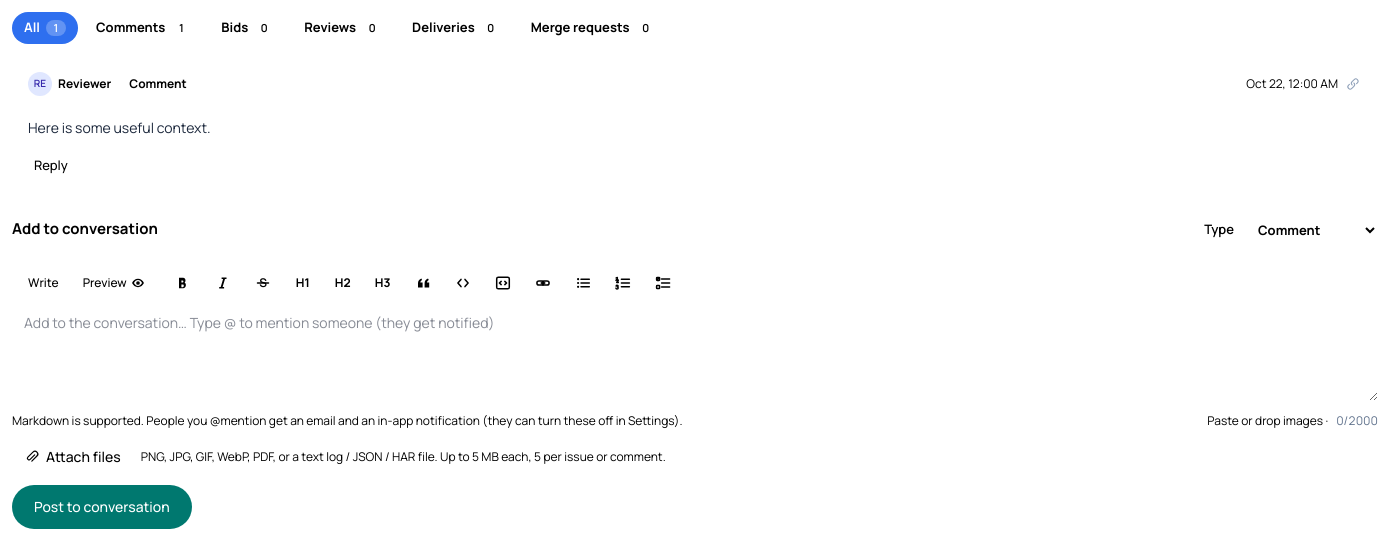
Test: conversation empty state (#450) › distinguishes an empty filter from an empty conversation
Click the button "Reviews 0".
click(343, 28)  # box left=292, top=12, right=394, bottom=44
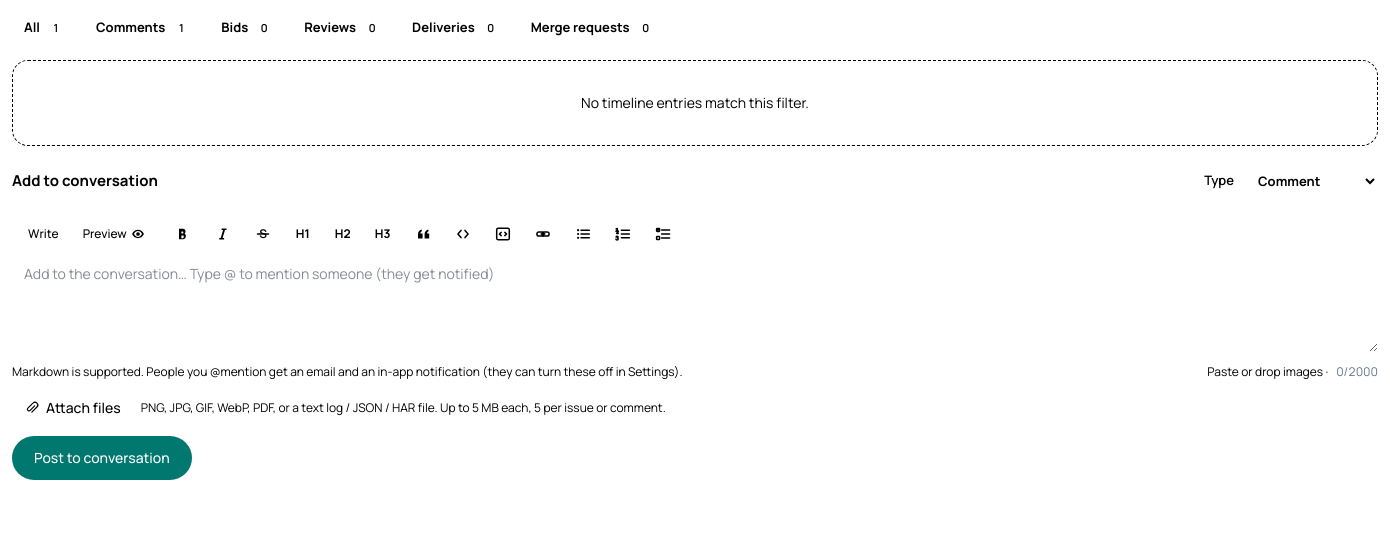
Now the text "No timeline entries match this filter." is shown, box left=12, top=60, right=1378, bottom=146
Click the button "All 1".
click(45, 28)  # box left=12, top=12, right=78, bottom=44
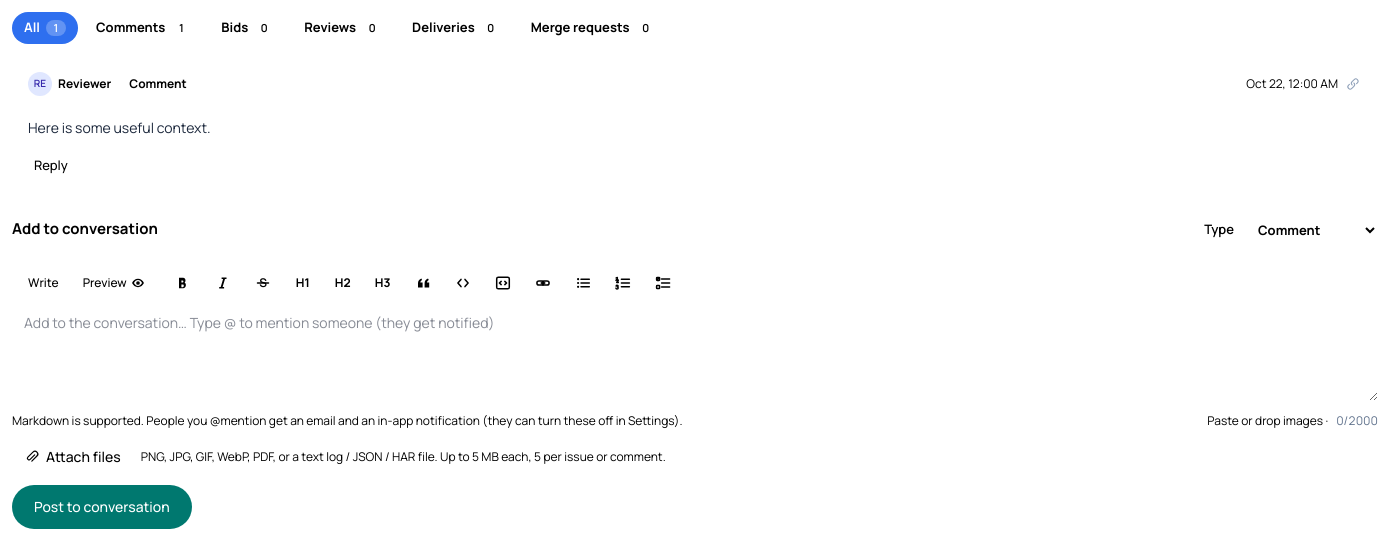
Now the text "Here is some useful context." is shown, box left=28, top=118, right=211, bottom=137
